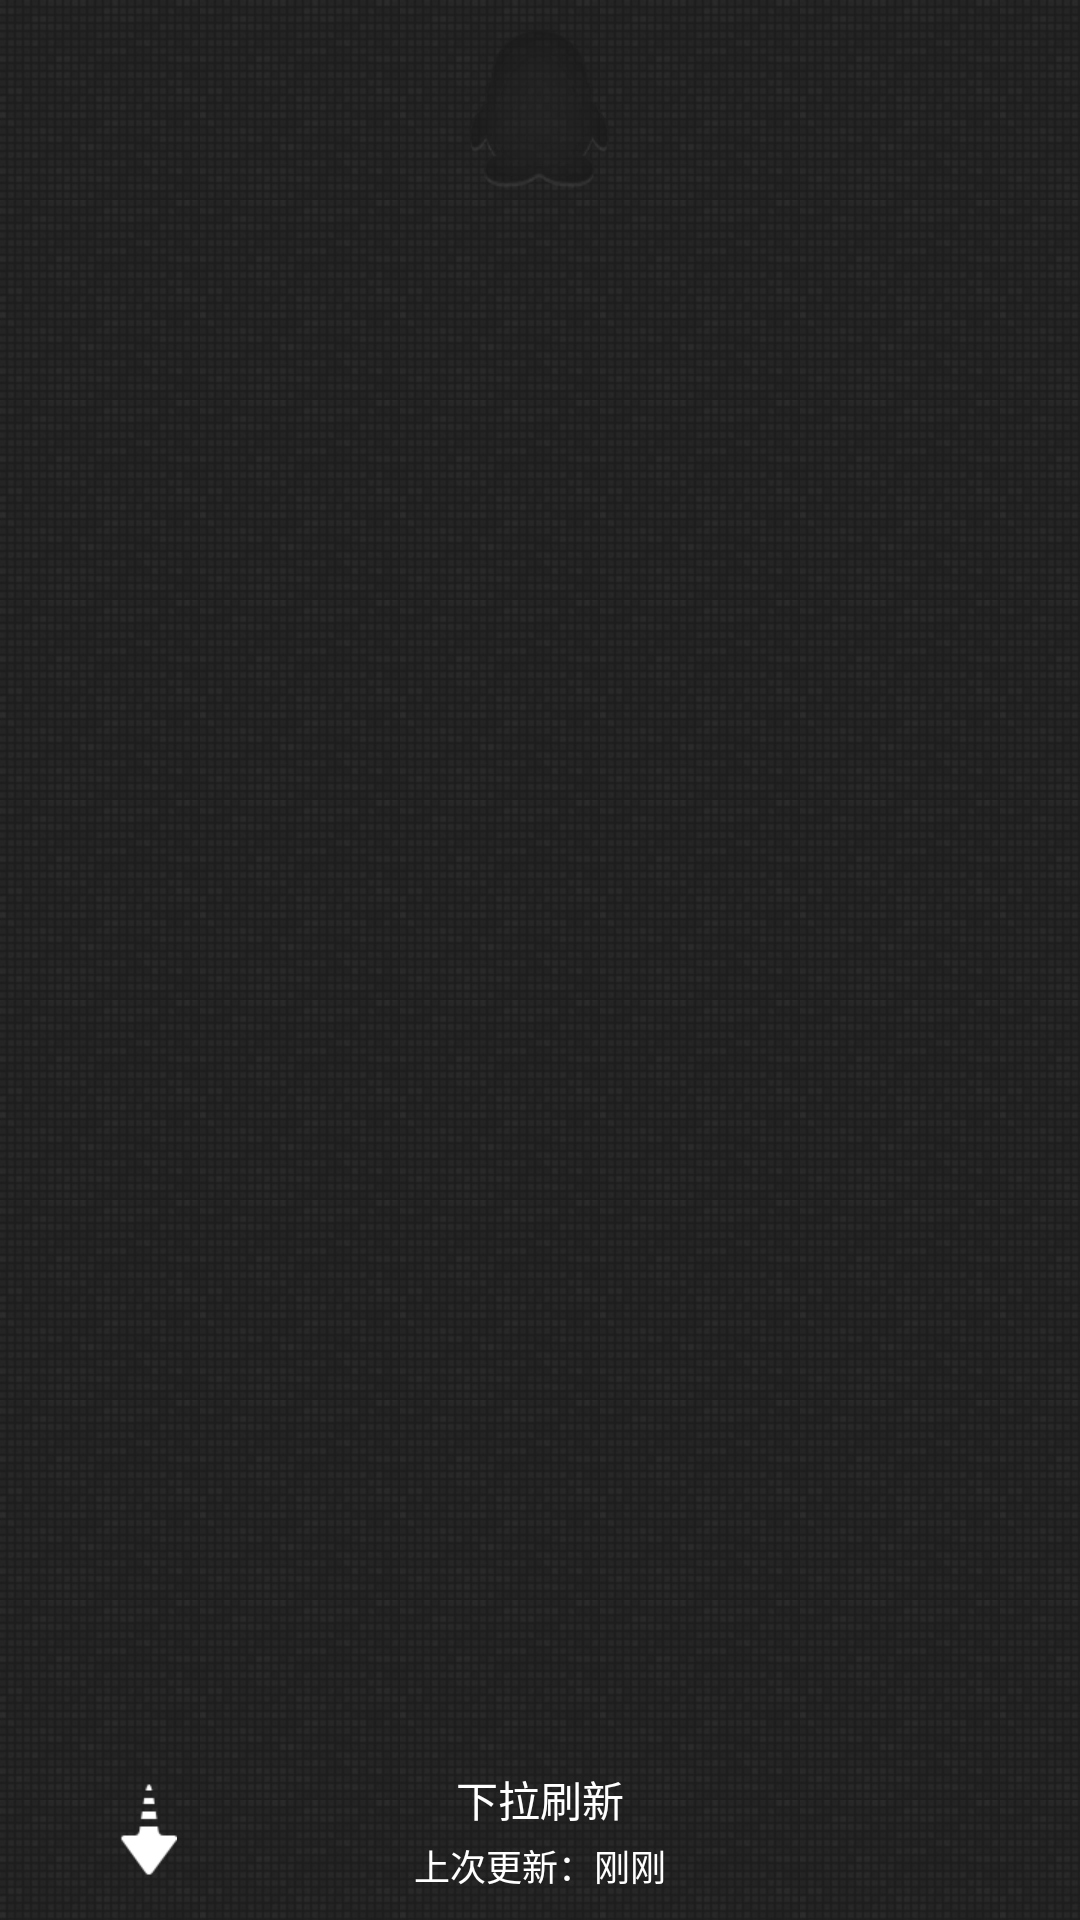

Icon click points for this 1080 x 1920 phone screenshot, format point (x, y):
refresh arrow: point (149, 1829)
